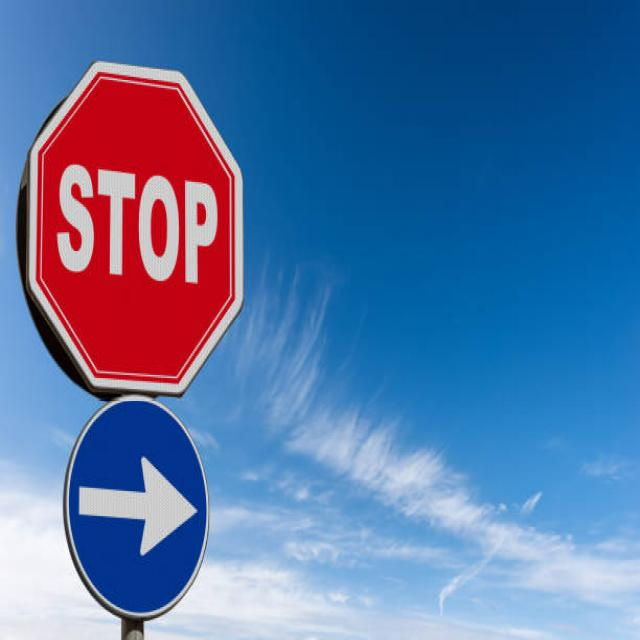compulsory_keep_right: (60, 394, 216, 624)
